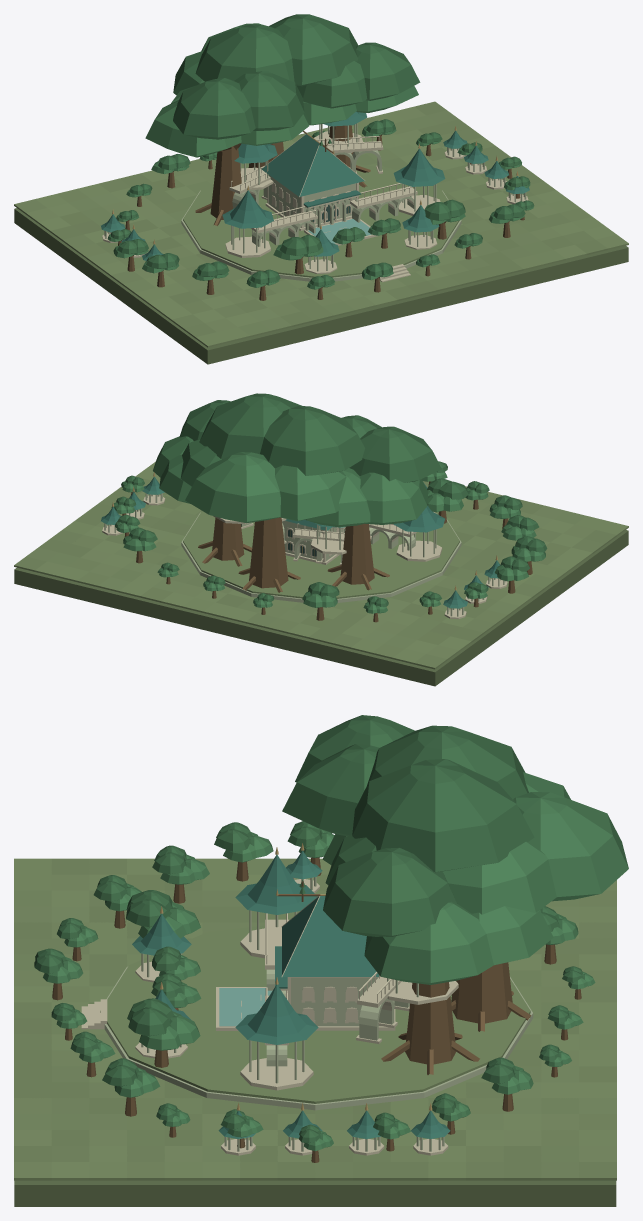
Rendered from forest.glb.
3 renders of one model, top to bottom at view 1: azimuth 30°, elevation 25°; view 2: azimuth 150°, elevation 25°; view 3: azimuth 270°, elevation 25°, orthographic. The views are drawn at different scales.
Parts seen in each view (by area): view 1: site, trees, roots, landscape, canopy-walks, court-hall-roof, court-hall, outer-court, canopy-walks-roof, landscape-roof, canopy-walks-ornament, outer-court-roof; view 2: site, trees, landscape, roots, canopy-walks, court-hall, outer-court, landscape-roof, canopy-walks-roof; view 3: site, trees, roots, landscape, outer-court, canopy-walks, court-hall-roof, canopy-walks-roof, court-hall, landscape-roof, canopy-walks-ornament, outer-court-roof.
Part boxes in pixels (left/top/right/bottom): site: left=14, top=101, right=628, bottom=364; trees: left=145, top=14, right=420, bottom=225; roots: left=181, top=164, right=461, bottom=281; landscape: left=102, top=119, right=534, bottom=300; canopy-walks: left=225, top=136, right=440, bottom=257; court-hall-roof: left=234, top=111, right=367, bottom=207; court-hall: left=239, top=123, right=362, bottom=231; outer-court: left=273, top=199, right=465, bottom=282; canopy-walks-roof: left=222, top=143, right=445, bottom=228; landscape-roof: left=101, top=126, right=529, bottom=260; canopy-walks-ornament: left=332, top=218, right=400, bottom=257; outer-court-roof: left=314, top=200, right=439, bottom=256; site: left=14, top=461, right=628, bottom=686; trees: left=153, top=393, right=441, bottom=592; landscape: left=102, top=461, right=547, bottom=622; roots: left=181, top=511, right=461, bottom=602; canopy-walks: left=241, top=518, right=442, bottom=564; court-hall: left=213, top=516, right=346, bottom=564; outer-court: left=427, top=478, right=468, bottom=523; landscape-roof: left=101, top=472, right=500, bottom=608; canopy-walks-roof: left=393, top=505, right=444, bottom=532; site: left=14, top=858, right=616, bottom=1206; trees: left=282, top=715, right=628, bottom=1074; roots: left=100, top=925, right=533, bottom=1110; landscape: left=34, top=821, right=595, bottom=1162; outer-court: left=81, top=890, right=200, bottom=1067; canopy-walks: left=240, top=910, right=409, bottom=1090; court-hall-roof: left=275, top=889, right=378, bottom=988; canopy-walks-roof: left=235, top=847, right=318, bottom=1044; court-hall: left=280, top=977, right=458, bottom=1030; landscape-roof: left=218, top=843, right=450, bottom=1139; canopy-walks-ornament: left=151, top=946, right=201, bottom=1010; outer-court-roof: left=132, top=906, right=191, bottom=1019.
Bounding box in the file's own units: 59.01 × 25.56 × 48.01.
